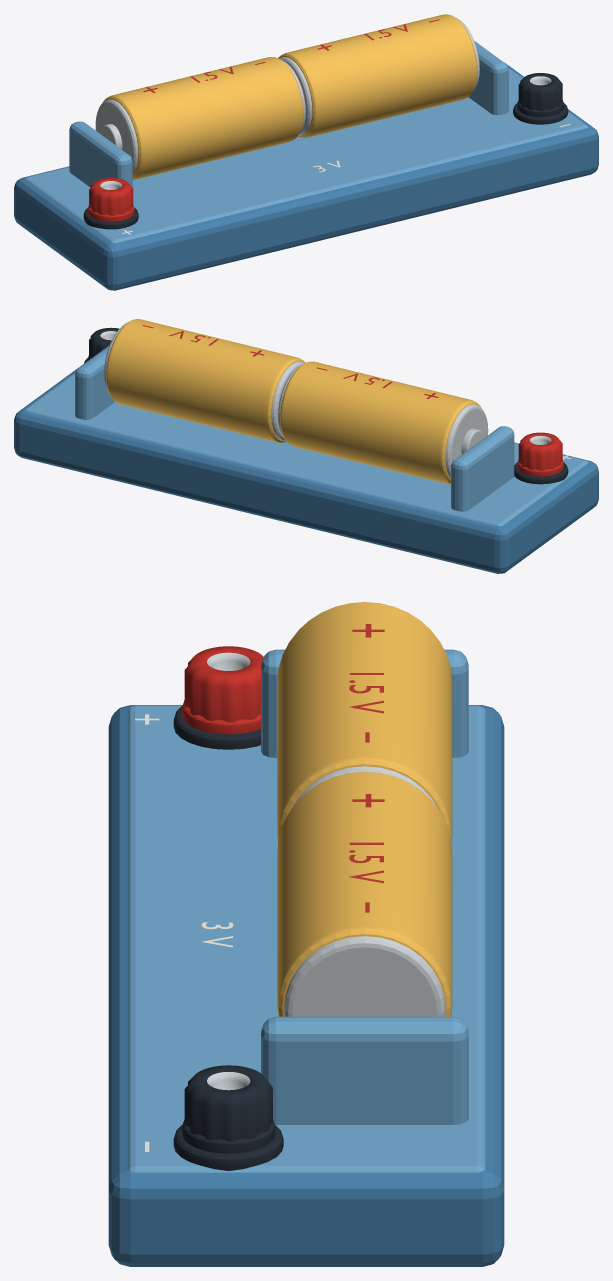
The model's file is battery-pack.glb.
The picture shows the model from 3 angles, top to bottom: view 1: azimuth 30°, elevation 25°; view 2: azimuth 150°, elevation 25°; view 3: azimuth 270°, elevation 25°; orthographic projection. The views are drawn at different scales.
Parts seen in each view (by area): view 1: Molded battery cradle, Top shoulder, Dry cell sleeve.001, Dry cell sleeve, Upright cell holder, Upright cell holder.001, p binding socket, n binding socket, Cell end cap, Cell end cap.002, p socket washer, n socket washer; view 2: Molded battery cradle, Top shoulder, Dry cell sleeve.001, Dry cell sleeve, Upright cell holder, Upright cell holder.001, p binding socket, Cell end cap, Cell end cap.002, n binding socket, p socket washer, p socket foot; view 3: Top shoulder, Molded battery cradle, Dry cell sleeve.001, Dry cell sleeve, Upright cell holder.001, Cell end cap.003, n binding socket, p binding socket, Upright cell holder, n socket washer, p socket washer, n socket foot (+1 smaller).
Boxes of the visible parts, <box> form: Molded battery cradle: <box>14,62,598,290</box>; Top shoulder: <box>24,68,588,242</box>; Dry cell sleeve.001: <box>278,14,477,138</box>; Dry cell sleeve: <box>103,57,303,180</box>; Upright cell holder: <box>69,121,132,187</box>; Upright cell holder.001: <box>468,41,508,115</box>; p binding socket: <box>89,177,133,215</box>; n binding socket: <box>518,73,562,110</box>; Cell end cap: <box>95,99,138,174</box>; Cell end cap.002: <box>279,57,312,135</box>; p socket washer: <box>83,207,138,229</box>; n socket washer: <box>513,103,568,124</box>; Molded battery cradle: <box>14,364,598,573</box>; Top shoulder: <box>24,372,588,526</box>; Dry cell sleeve.001: <box>106,319,305,442</box>; Dry cell sleeve: <box>280,361,480,484</box>; Upright cell holder: <box>451,426,514,511</box>; Upright cell holder.001: <box>75,345,114,419</box>; p binding socket: <box>518,432,562,470</box>; Cell end cap: <box>445,404,488,478</box>; Cell end cap.002: <box>271,361,304,440</box>; n binding socket: <box>89,327,118,358</box>; p socket washer: <box>514,462,568,484</box>; p socket foot: <box>517,460,563,476</box>; Top shoulder: <box>127,705,485,1172</box>; Molded battery cradle: <box>108,705,504,1266</box>; Dry cell sleeve.001: <box>277,772,452,1016</box>; Dry cell sleeve: <box>277,602,452,842</box>; Upright cell holder.001: <box>261,1016,468,1124</box>; Cell end cap.003: <box>284,936,445,1016</box>; n binding socket: <box>184,1065,272,1141</box>; p binding socket: <box>184,646,263,722</box>; Upright cell holder: <box>261,649,468,757</box>; n socket washer: <box>173,1124,283,1170</box>; p socket washer: <box>173,705,260,749</box>; n socket foot: <box>182,1119,275,1153</box>.
Bounding box in the file's own units: 0.176 × 0.0466 × 0.061.
